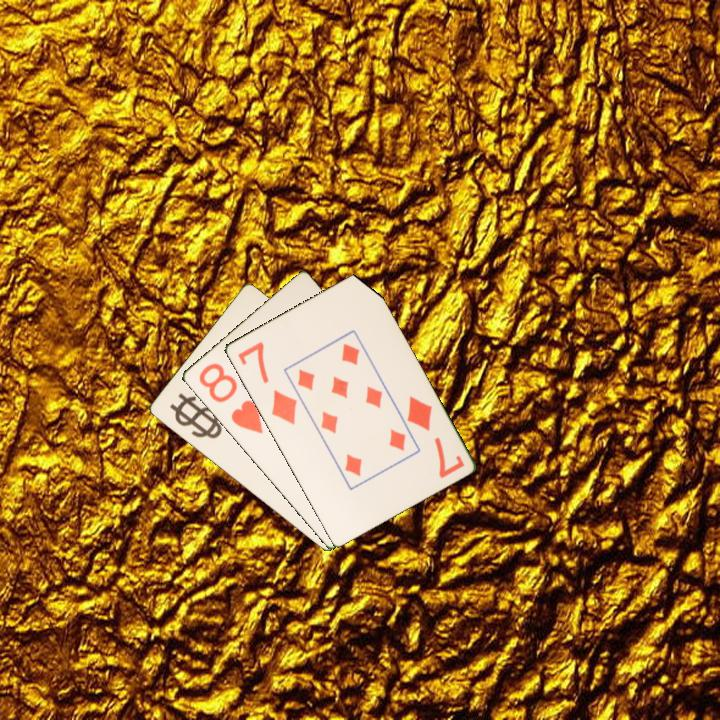7d: (233, 338, 300, 428), (403, 392, 467, 481)
8h: (195, 359, 266, 437)
JK: (174, 399, 221, 438)
